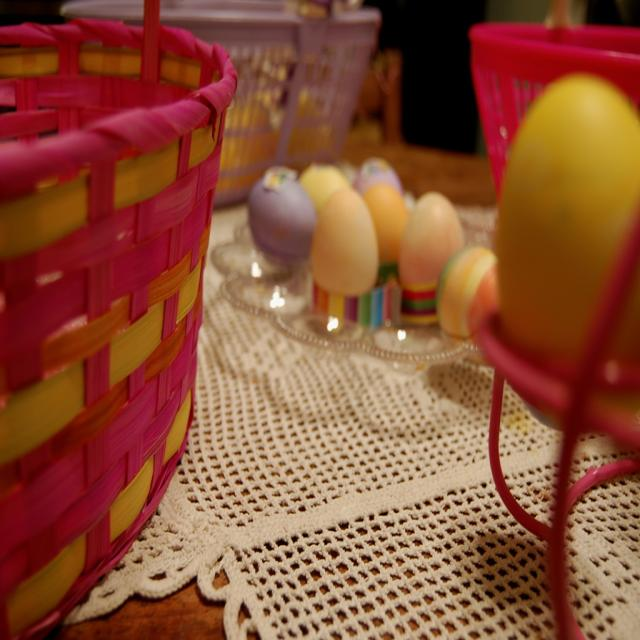Egg: (247, 73, 640, 362)
